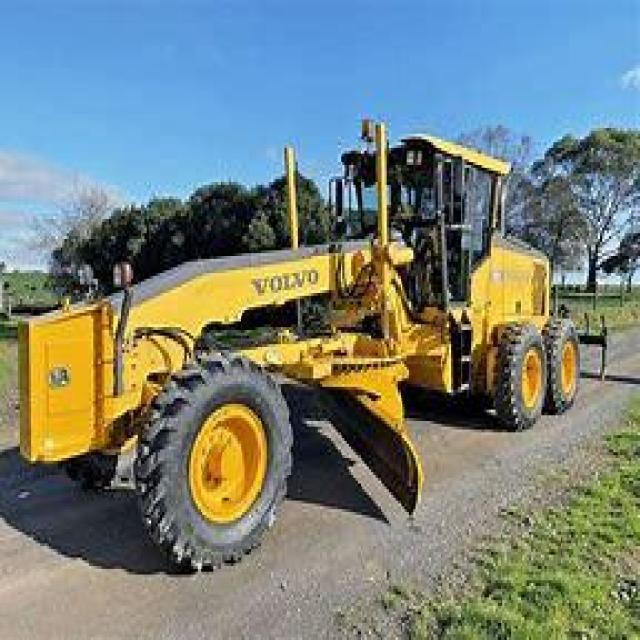buldozerpayloadergrader: (11, 114, 620, 566)
